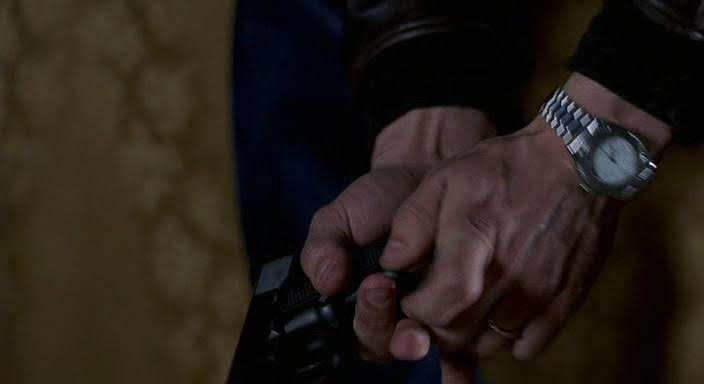gun: (173, 99, 605, 378)
